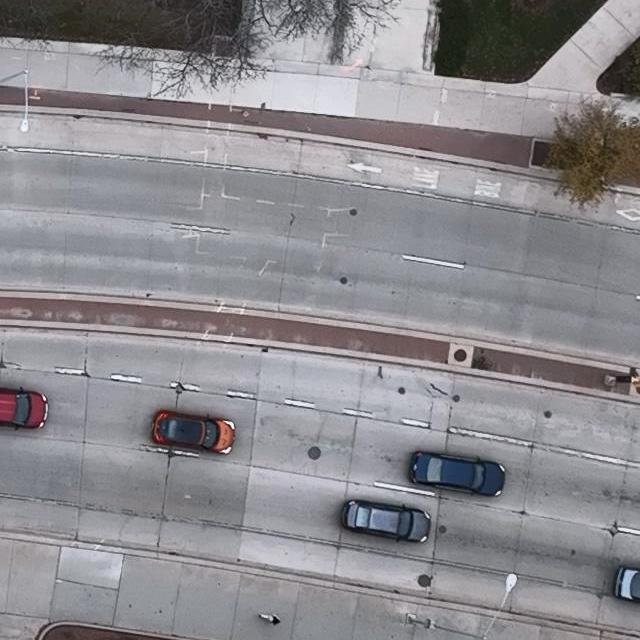car: (408, 450, 505, 496), (340, 499, 431, 543), (151, 410, 236, 454), (0, 387, 48, 431), (612, 566, 640, 604)
